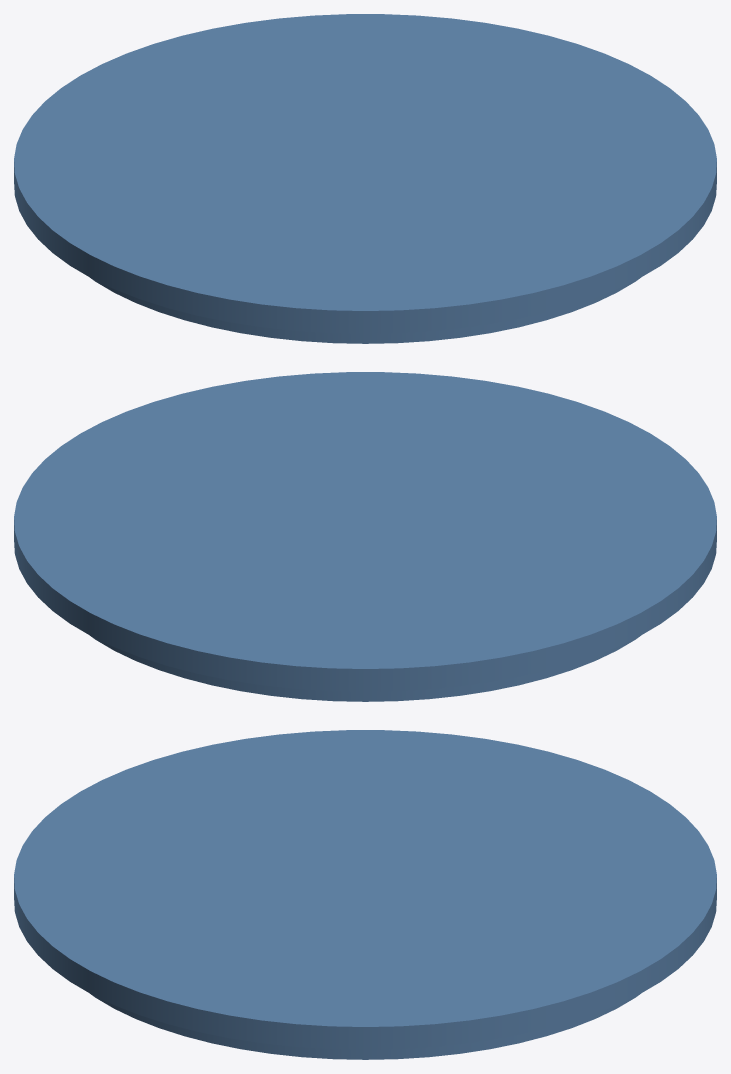
File: step_01.glb
3 views of the same model, one above another, from view 1: azimuth 30°, elevation 25°; view 2: azimuth 150°, elevation 25°; view 3: azimuth 270°, elevation 25° (orthographic).
Visible parts, largest first — view 1: part__pod cap; view 2: part__pod cap; view 3: part__pod cap.
Part boxes in pixels (bbox=[...]): part__pod cap: bbox=[14, 14, 716, 343]; part__pod cap: bbox=[14, 372, 716, 701]; part__pod cap: bbox=[14, 730, 716, 1059].
Size of the model in its own units: 69.96 by 5 by 69.98.
